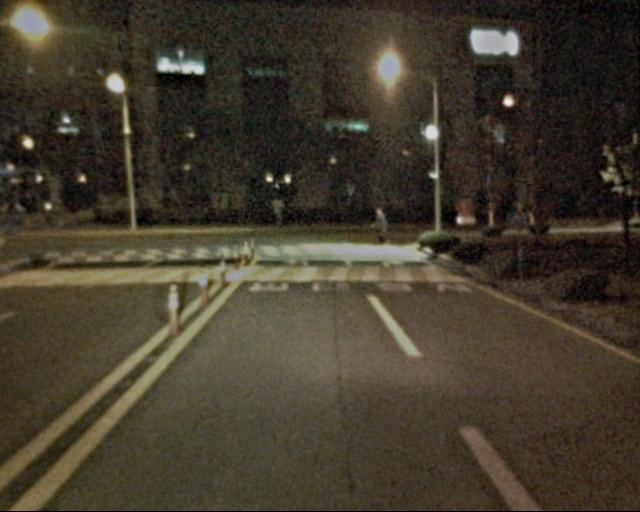person: (372, 205, 393, 256)
